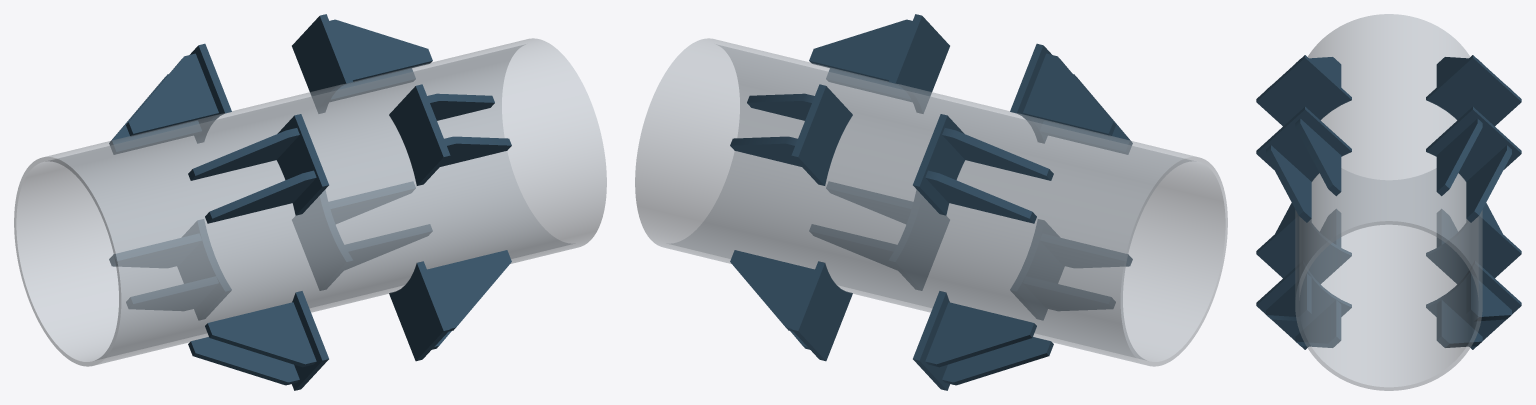
File: TS-661.00.00-04-opora-dn325-ris2.glb
The picture shows the model from 3 angles, left to right: view 1: azimuth 30°, elevation 25°; view 2: azimuth 150°, elevation 25°; view 3: azimuth 270°, elevation 25°; orthographic projection. The views are drawn at different scales.
Visible parts, largest first — view 1: truba, upor_11, upor_24, upor_21, upor_8, upor_1, upor_7, upor_19, upor_13, upor_12, upor_4, upor_16 (+12 smaller); view 2: truba, upor_18, upor_5, upor_2, upor_15, upor_19, upor_13, upor_1, upor_7, upor_17, upor_22, upor_10 (+12 smaller); view 3: truba, upor_4, upor_22, upor_10, upor_16, upor_1, upor_19, upor_7, upor_13, upor_2, upor_21, upor_3 (+9 smaller).
Boxes of the visible parts, box(x1,y1,x2,y2) form: truba: box(14, 38, 606, 366); upor_11: box(205, 302, 316, 367); upor_24: box(126, 53, 218, 136); upor_21: box(329, 19, 432, 82); upor_8: box(427, 250, 511, 331); upor_1: box(389, 84, 450, 185); upor_7: box(389, 261, 450, 361); upor_19: box(292, 14, 352, 113); upor_13: box(292, 190, 352, 290); upor_12: box(188, 337, 299, 385); upor_4: box(276, 114, 328, 215); upor_16: box(177, 219, 231, 319); truba: box(635, 38, 1227, 366); upor_18: box(925, 302, 1036, 367); upor_5: box(1023, 53, 1115, 136); upor_2: box(809, 19, 912, 82); upor_15: box(730, 250, 814, 331); upor_19: box(791, 84, 852, 185); upor_13: box(791, 261, 852, 361); upor_1: box(889, 14, 949, 113); upor_7: box(889, 190, 949, 290); upor_17: box(942, 337, 1053, 385); upor_22: box(913, 114, 965, 215); upor_10: box(1010, 219, 1064, 319); truba: box(1295, 14, 1482, 390); upor_4: box(1256, 55, 1351, 125); upor_22: box(1426, 55, 1521, 125); upor_10: box(1256, 214, 1351, 283); upor_16: box(1426, 214, 1521, 283); upor_1: box(1256, 107, 1351, 181); upor_19: box(1426, 107, 1521, 181); upor_7: box(1256, 261, 1351, 349); upor_13: box(1426, 261, 1521, 349); upor_2: box(1295, 118, 1341, 196); upor_21: box(1436, 118, 1482, 196); upor_3: box(1266, 145, 1311, 222).
Bounding box in the file's own units: 849 × 460 × 460.
